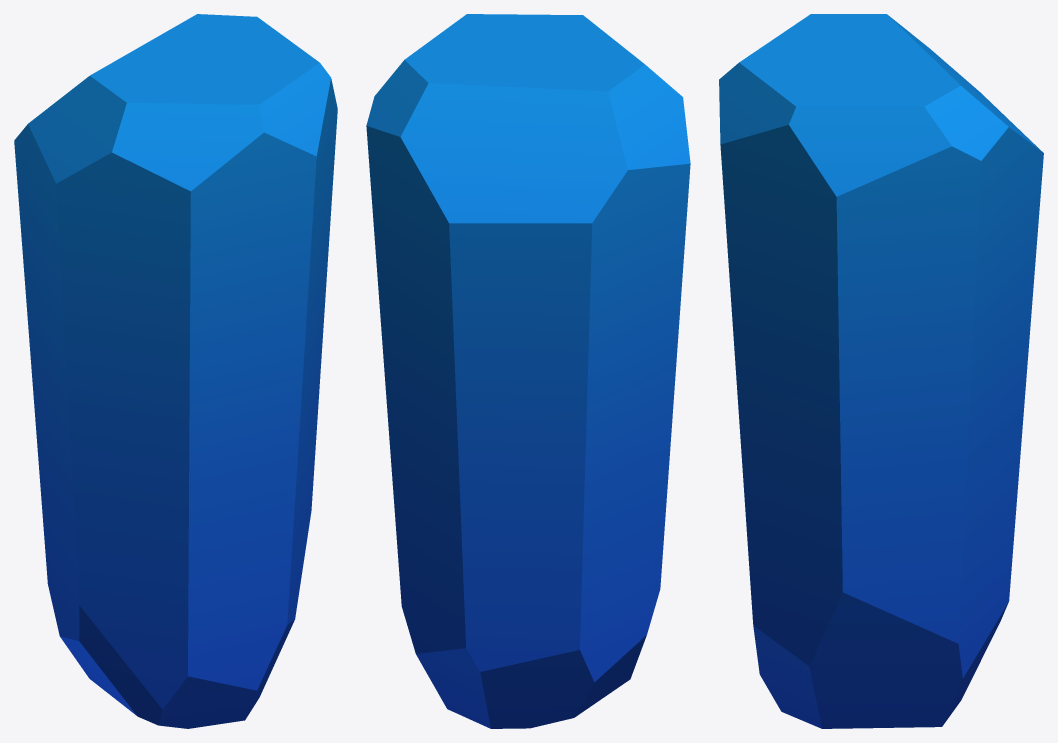
File: crystal_11.glb
3 renders of one model, left to right at view 1: azimuth 30°, elevation 25°; view 2: azimuth 150°, elevation 25°; view 3: azimuth 270°, elevation 25°, orthographic. The views are drawn at different scales.
Parts seen in each view (by area): view 1: crystal_11; view 2: crystal_11; view 3: crystal_11.
Boxes of the visible parts, box(x1,y1,x2,y2) form: crystal_11: box(14, 14, 337, 728); crystal_11: box(366, 14, 690, 728); crystal_11: box(719, 14, 1043, 728).
Bounding box in the file's own units: 3.55 × 7.63 × 3.48.
Materials: 1 (1 with a texture image).
